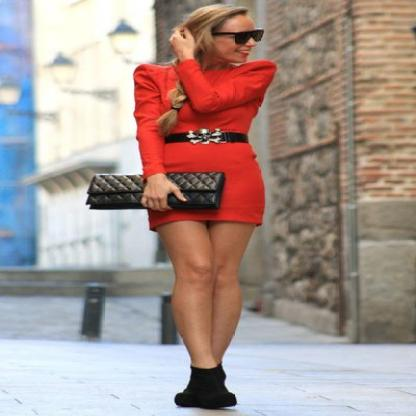bag: (87, 171, 225, 213)
dress: (133, 60, 276, 232)
shoe: (175, 362, 238, 409)
sunglass: (212, 30, 262, 44)
